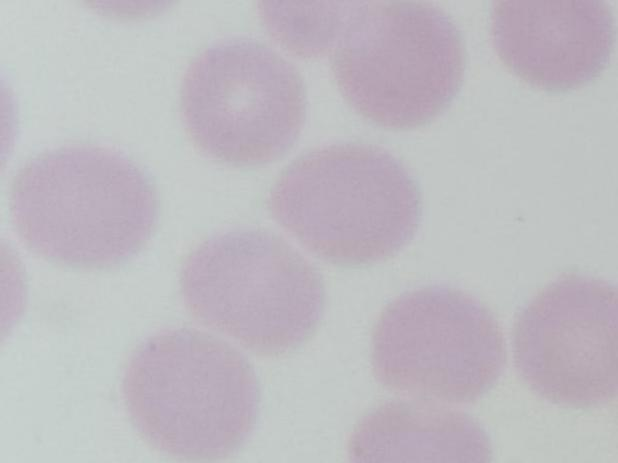Uninfected: (180, 223, 327, 357), (126, 323, 251, 462), (274, 140, 415, 261), (328, 3, 461, 131), (16, 149, 155, 268), (369, 284, 503, 402), (184, 40, 300, 168), (513, 273, 618, 407), (484, 0, 607, 86)
